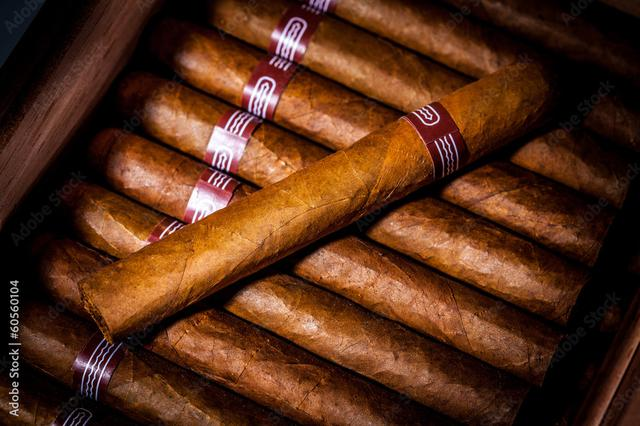Cigar: (74, 51, 559, 344), (36, 174, 524, 426), (80, 127, 561, 377), (112, 73, 589, 318), (162, 32, 612, 261), (214, 1, 640, 207), (35, 240, 443, 426), (1, 283, 285, 426)
